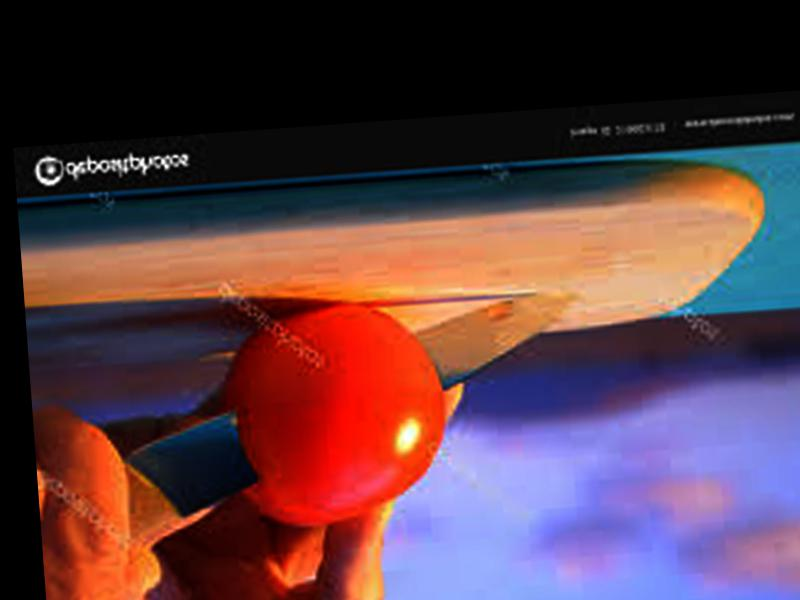Tomato: (214, 292, 455, 528)
